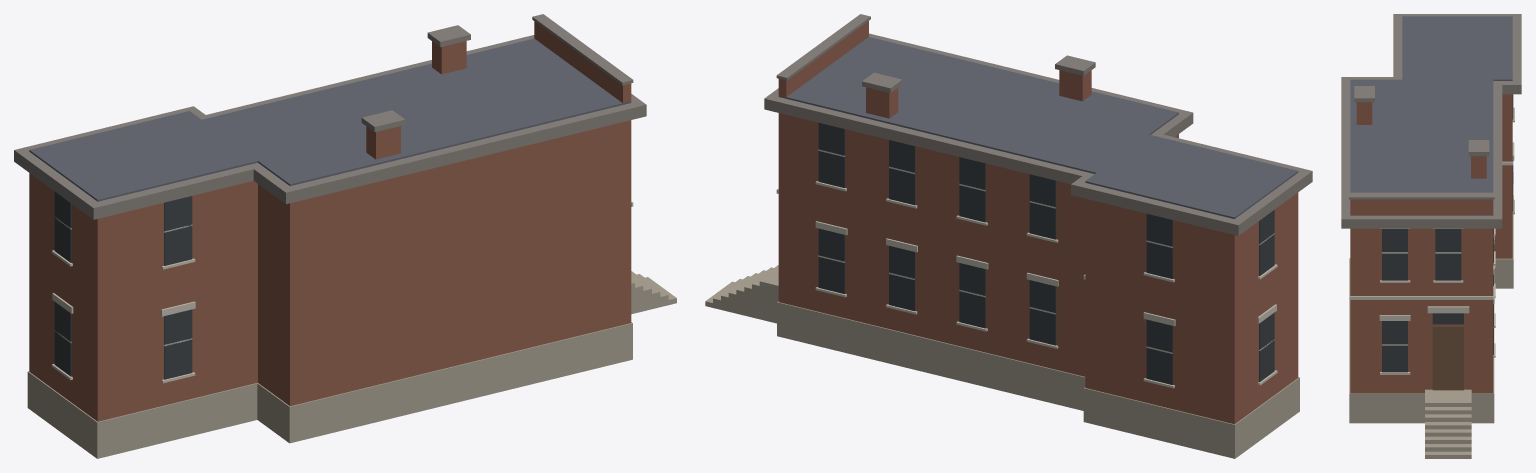
File: mark_kimball_house_2108_prairie__draft_1904.glb
The picture shows the model from 3 angles, left to right: view 1: azimuth 30°, elevation 25°; view 2: azimuth 150°, elevation 25°; view 3: azimuth 270°, elevation 25°; orthographic projection. The views are drawn at different scales.
Visible parts, largest first — view 1: mark_kimball_house_2108_prairie__draft_1904; view 2: mark_kimball_house_2108_prairie__draft_1904; view 3: mark_kimball_house_2108_prairie__draft_1904.
Part boxes in pixels (x1,y1,x2,y2): mark_kimball_house_2108_prairie__draft_1904: (14, 14, 676, 458); mark_kimball_house_2108_prairie__draft_1904: (705, 14, 1312, 458); mark_kimball_house_2108_prairie__draft_1904: (1341, 14, 1521, 458).
Bounding box in the file's own units: 21.65 × 10.04 × 6.95.
